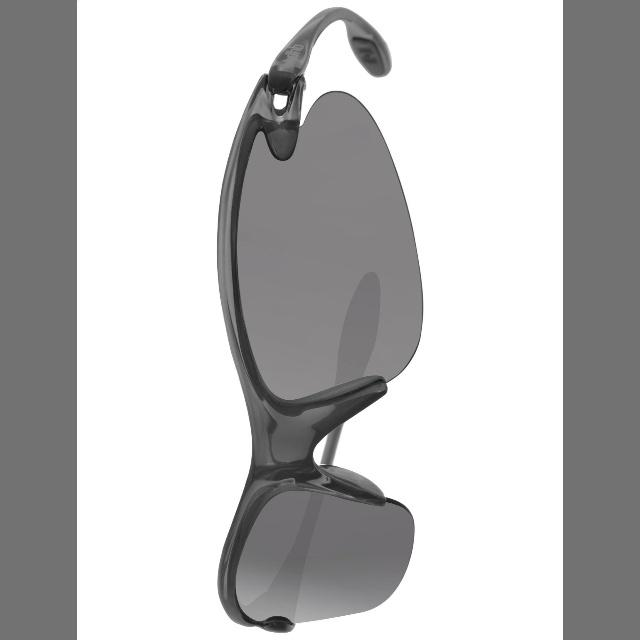Sunglasses: (155, 0, 510, 640)
